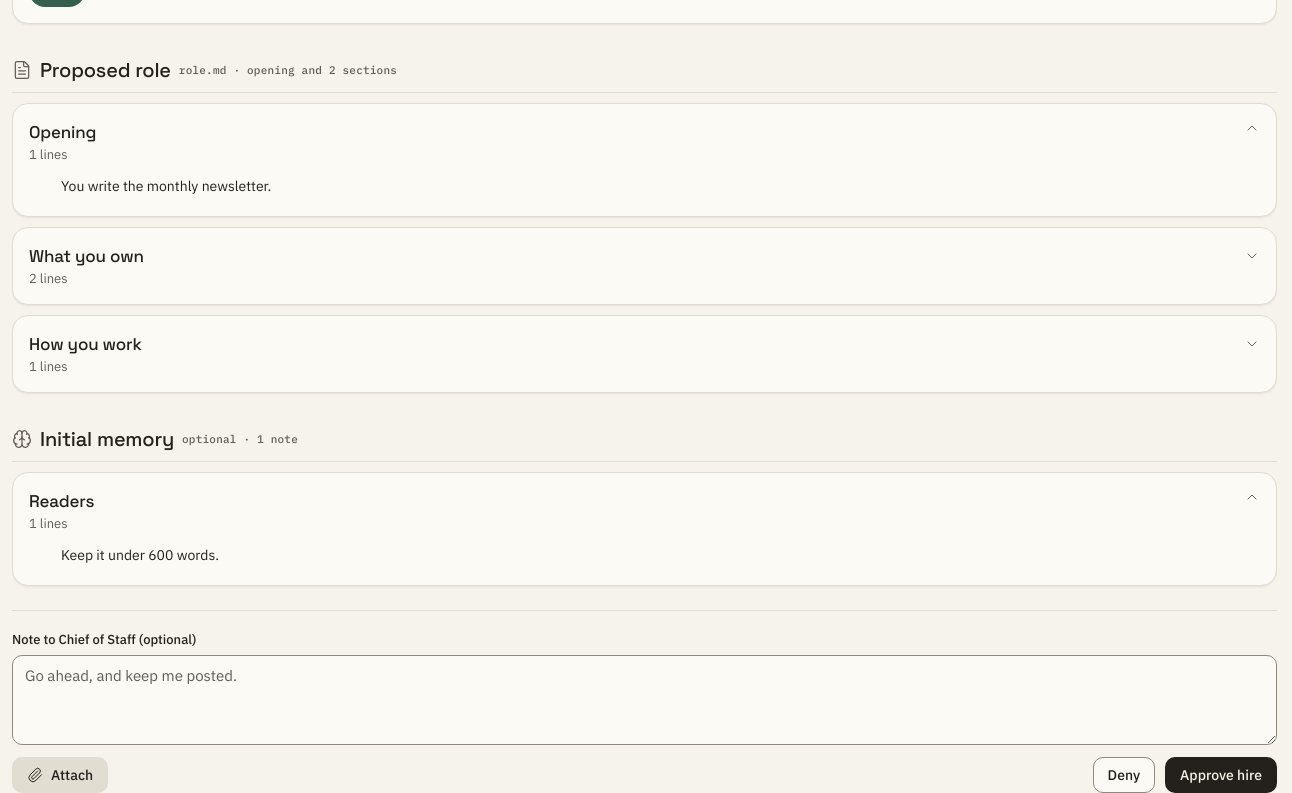
Proposal page › says what happened and who can fix it on a 409, and keeps the decision
This screenshot has width=1292, height=793.
(page scrolled)
Click the button "Approve hire".
click(1221, 775)  # box [1165,757,1277,792]
(page scrolled)
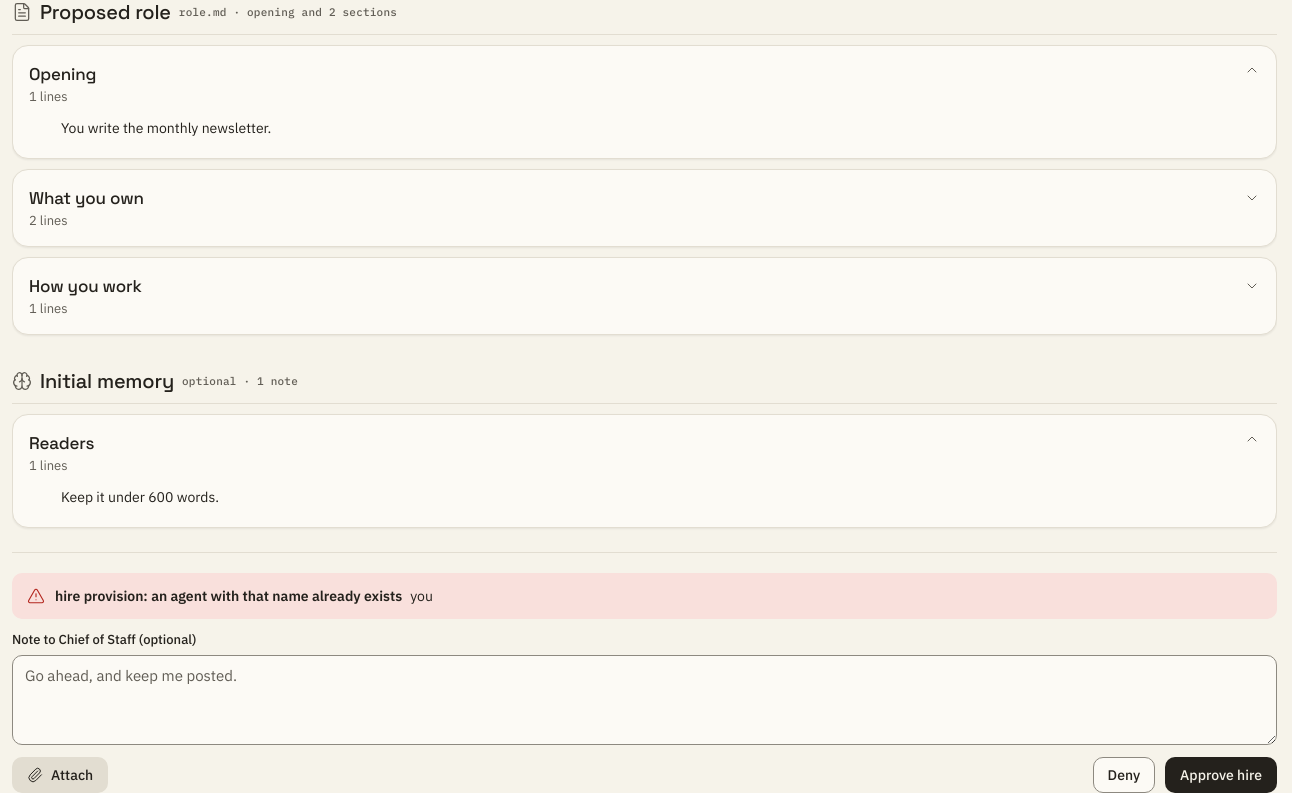
Expected: the text "hire provision: an agent with that name already exists" is shown, [55,586,402,606]
Expected: the text "you" is shown, [410,586,433,606]
